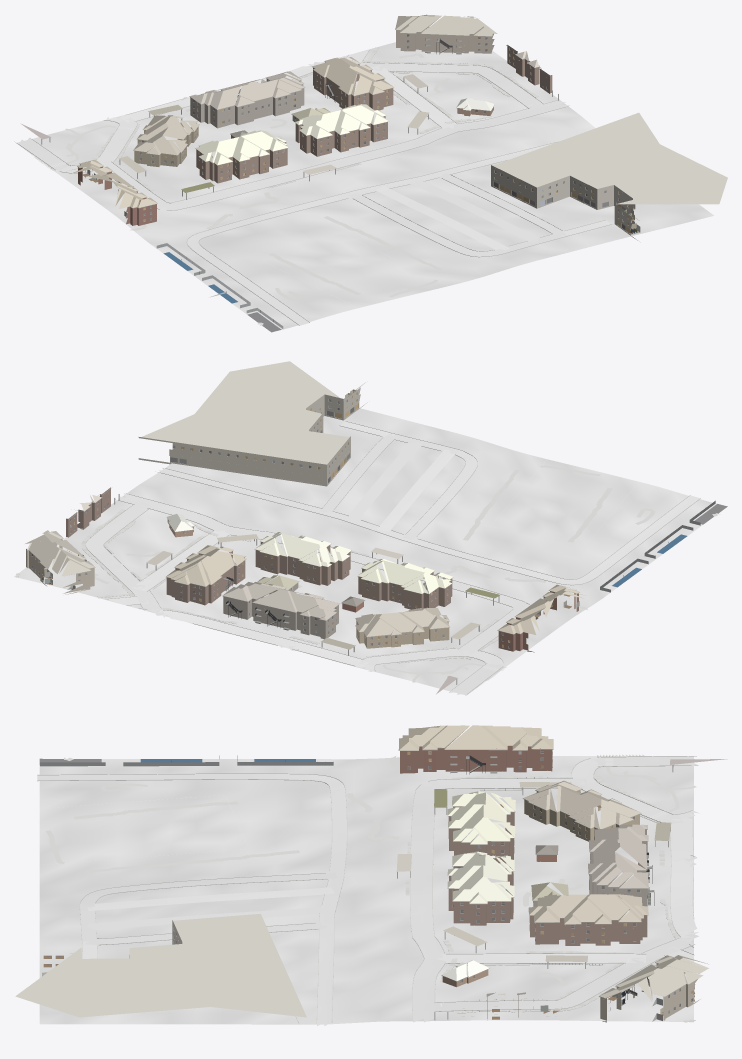
The picture shows the model from 3 angles, top to bottom: view 1: azimuth 30°, elevation 25°; view 2: azimuth 150°, elevation 25°; view 3: azimuth 270°, elevation 25°; orthographic projection. The views are drawn at different scales.
Visible parts, largest first — view 1: ground, concrete, roof, roof_flat, wall, curb, walk, wall_com, detail, glass, glass_lit, chain; view 2: ground, concrete, roof, roof_flat, wall, wall_com, curb, walk, detail, glass, chain; view 3: ground, concrete, roof, roof_flat, wall, walk, curb, detail, chain, room, glass.
Boxes of the visible parts, x1=… form: ground: x1=16, y1=42, x2=713, y2=329; concrete: x1=19, y1=50, x2=611, y2=325; roof: x1=71, y1=14, x2=539, y2=208; roof_flat: x1=20, y1=74, x2=727, y2=204; wall: x1=78, y1=30, x2=552, y2=225; curb: x1=15, y1=50, x2=611, y2=325; walk: x1=34, y1=47, x2=538, y2=325; wall_com: x1=41, y1=74, x2=637, y2=240; detail: x1=77, y1=29, x2=629, y2=332; glass: x1=140, y1=34, x2=625, y2=229; glass_lit: x1=143, y1=37, x2=630, y2=233; chain: x1=156, y1=243, x2=283, y2=328; ground: x1=14, y1=408, x2=716, y2=695; concrete: x1=85, y1=421, x2=699, y2=694; roof: x1=25, y1=495, x2=583, y2=636; roof_flat: x1=141, y1=361, x2=499, y2=694; wall: x1=26, y1=487, x2=578, y2=652; wall_com: x1=114, y1=382, x2=499, y2=684; curb: x1=83, y1=421, x2=700, y2=695; walk: x1=16, y1=465, x2=720, y2=682; detail: x1=27, y1=392, x2=727, y2=648; glass: x1=32, y1=399, x2=510, y2=648; chain: x1=600, y1=500, x2=715, y2=592; ground: x1=39, y1=756, x2=693, y2=1024; concrete: x1=37, y1=756, x2=699, y2=1025; roof: x1=398, y1=725, x2=708, y2=1001; roof_flat: x1=15, y1=759, x2=727, y2=1017; wall: x1=400, y1=746, x2=700, y2=1022; walk: x1=46, y1=754, x2=696, y2=1022; curb: x1=37, y1=756, x2=697, y2=1023; detail: x1=39, y1=745, x2=698, y2=1023; chain: x1=40, y1=759, x2=333, y2=766; room: x1=42, y1=751, x2=695, y2=1021; glass: x1=174, y1=750, x2=692, y2=1010.
Bounding box in the file's own units: 274 × 21.08 × 273.
